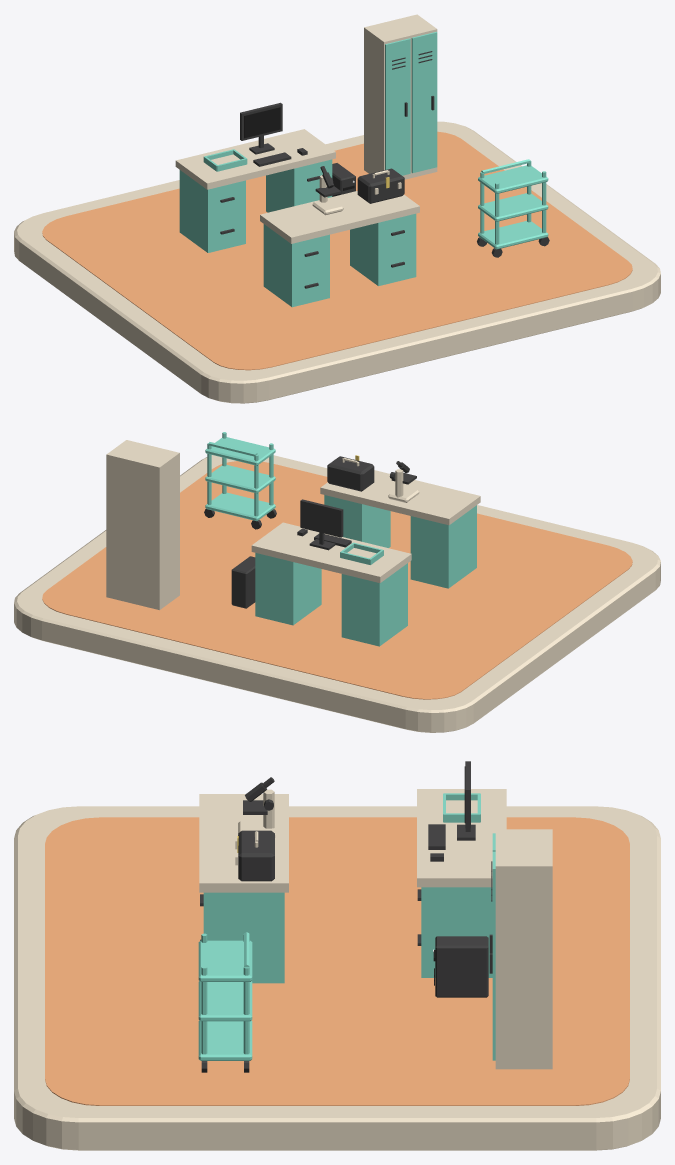
The model's file is room.fbx.
3 renders of one model, top to bottom at view 1: azimuth 30°, elevation 25°; view 2: azimuth 150°, elevation 25°; view 3: azimuth 270°, elevation 25°, orthographic. The views are drawn at different scales.
Parts seen in each view (by area): view 1: COM-02 Floor Surface, COM-01 Rounded Base Direct, Case.001, Storage module, Storage module.002, Worktop, Worktop.001, Storage module.001, Door.001, Door, Storage module.003, Frame (+4 smaller); view 2: COM-02 Floor Surface, COM-01 Rounded Base Direct, Case.001, Storage module.002, Storage module, Worktop.001, Storage module.003, Worktop, Storage module.001, Frame, Case, Tray.001 (+3 smaller); view 3: COM-02 Floor Surface, COM-01 Rounded Base Direct, Case.001, Worktop.001, Worktop, Storage module.001, Storage module.003, Tower, Tray.002, Tray.001, Tray, Case (+2 smaller).
Boxes of the visible parts, <box> form: COM-02 Floor Surface: <box>42,131,632,370</box>; COM-01 Rounded Base Direct: <box>14,121,660,403</box>; Case.001: <box>364,14,437,179</box>; Storage module: <box>263,224,329,307</box>; Storage module.002: <box>179,170,245,252</box>; Worktop: <box>260,191,419,243</box>; Worktop.001: <box>175,129,335,189</box>; Storage module.001: <box>350,213,416,286</box>; Door.001: <box>411,31,437,173</box>; Door: <box>385,38,410,175</box>; Storage module.003: <box>266,159,332,212</box>; Frame: <box>240,102,282,154</box>; COM-02 Floor Surface: <box>42,461,632,699</box>; COM-01 Rounded Base Direct: <box>14,455,660,732</box>; Case.001: <box>106,440,179,610</box>; Storage module.002: <box>341,563,407,646</box>; Storage module: <box>410,505,476,588</box>; Worktop.001: <box>251,522,411,582</box>; Storage module.003: <box>255,553,321,625</box>; Worktop: <box>320,470,480,525</box>; Storage module.001: <box>324,495,390,547</box>; Frame: <box>300,499,343,550</box>; Case: <box>327,456,374,491</box>; Tray.001: <box>205,465,275,493</box>; COM-02 Floor Surface: <box>45,817,629,1105</box>; COM-01 Rounded Base Direct: <box>14,806,660,1150</box>; Case.001: <box>495,829,552,1069</box>; Worktop.001: <box>417,789,506,887</box>; Worktop: <box>199,794,288,892</box>; Storage module.001: <box>203,892,284,983</box>; Storage module.003: <box>421,887,492,977</box>; Tower: <box>435,936,488,997</box>; Tray.002: <box>198,940,252,981</box>; Tray.001: <box>198,981,252,1021</box>; Tray: <box>198,1020,252,1060</box>; Case: <box>238,830,274,881</box>.
Size of the model in its own units: 600 by 210 by 520.
